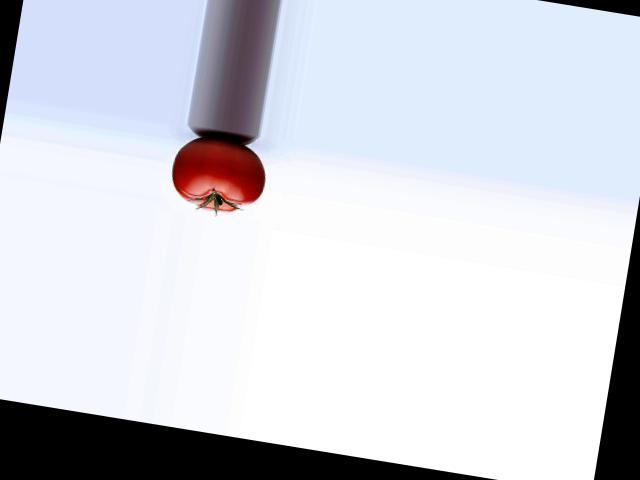tomato: (167, 131, 270, 217)
